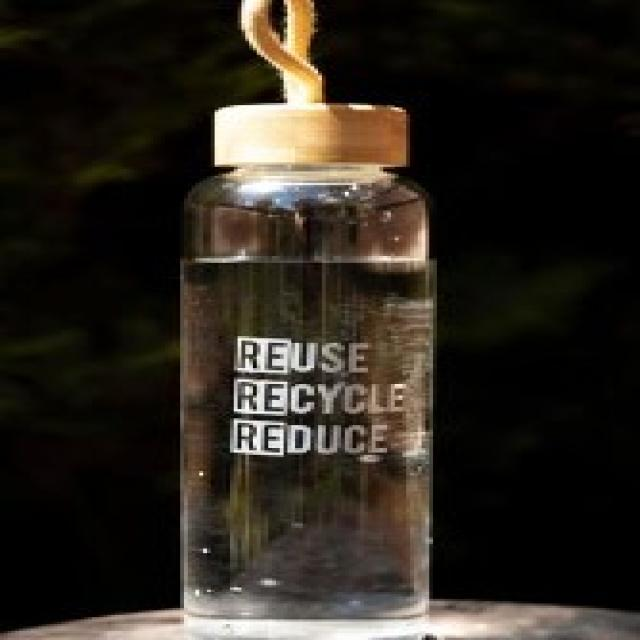electronic: (181, 101, 442, 635)
